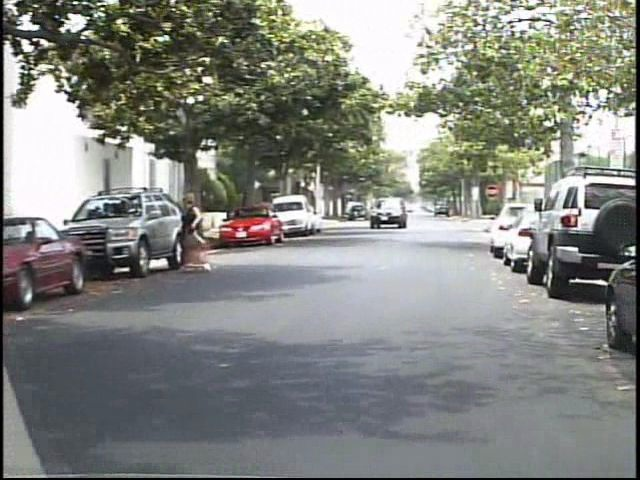person: (185, 189, 220, 277)
